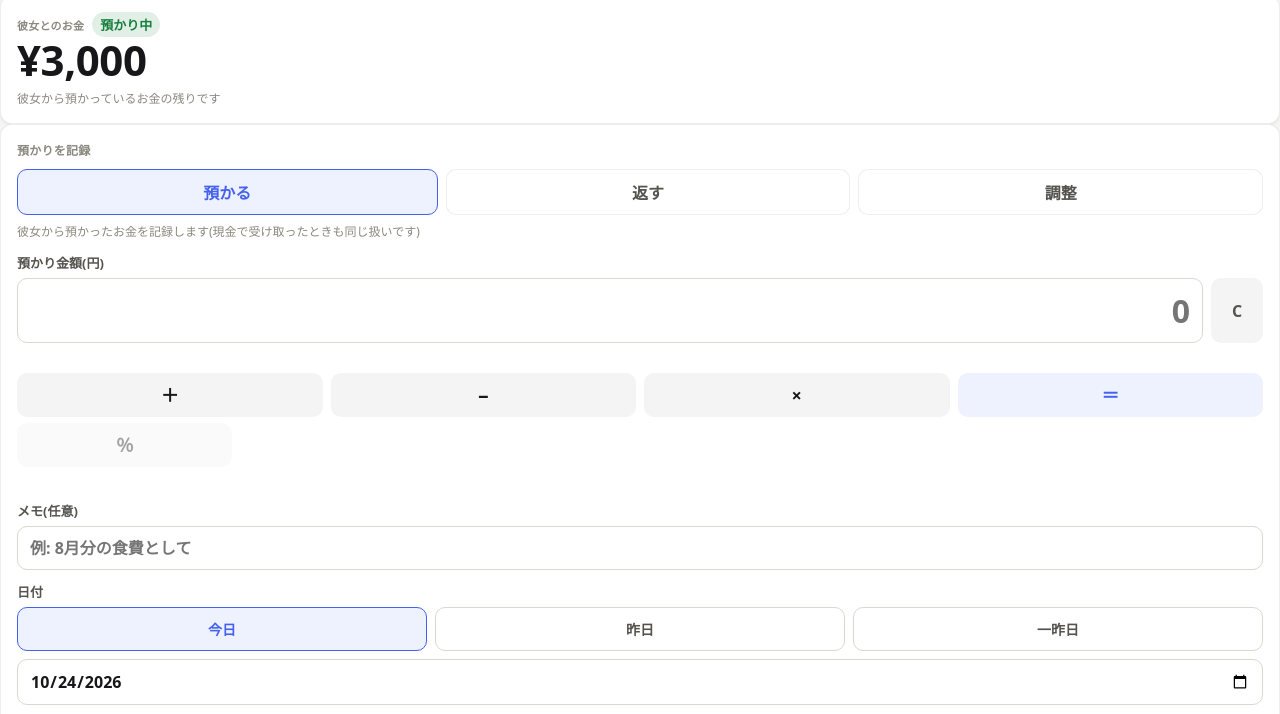
Scenario: 記録カードの「この記録のあと」 › 預かりを超えて返すと「立て替え中」に変わることが分かる
Click the button "返す" at (648,192), box x1=446 y1=169 x2=850 y2=215
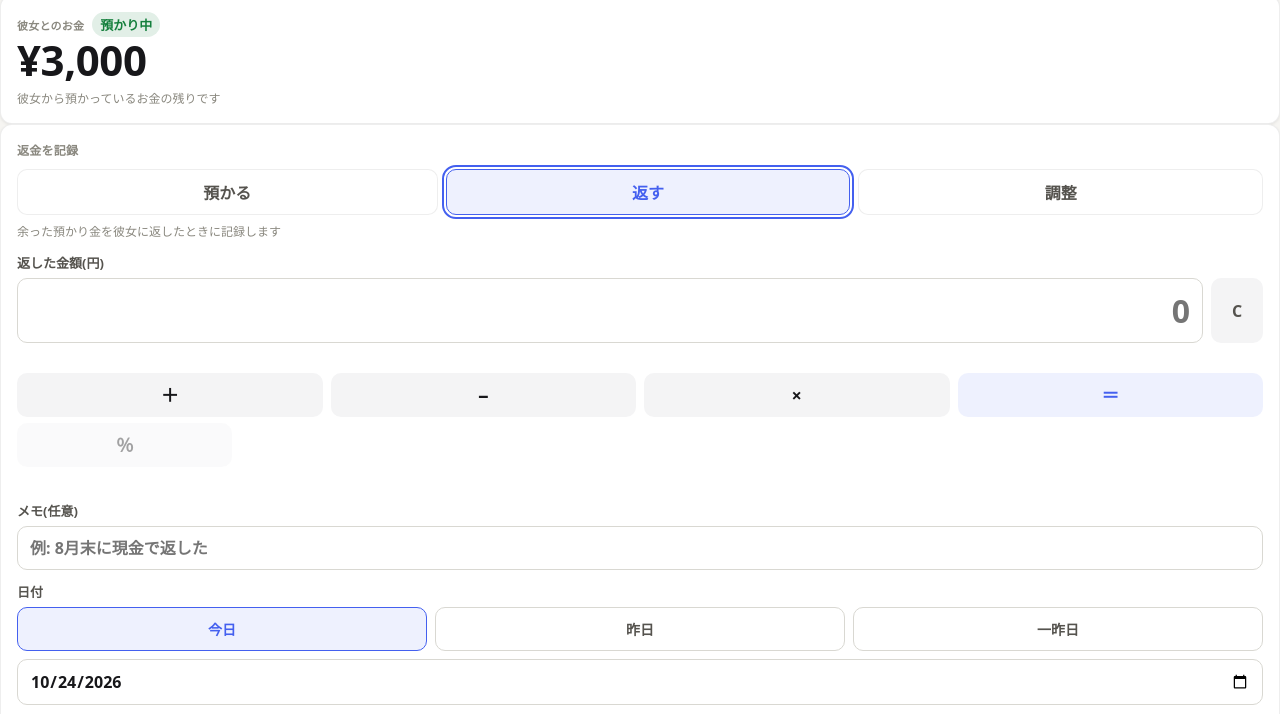
Type "5000" into the field named "返した金額(円)" at (610,311), box x1=17 y1=278 x2=1203 y2=343
(page scrolled)
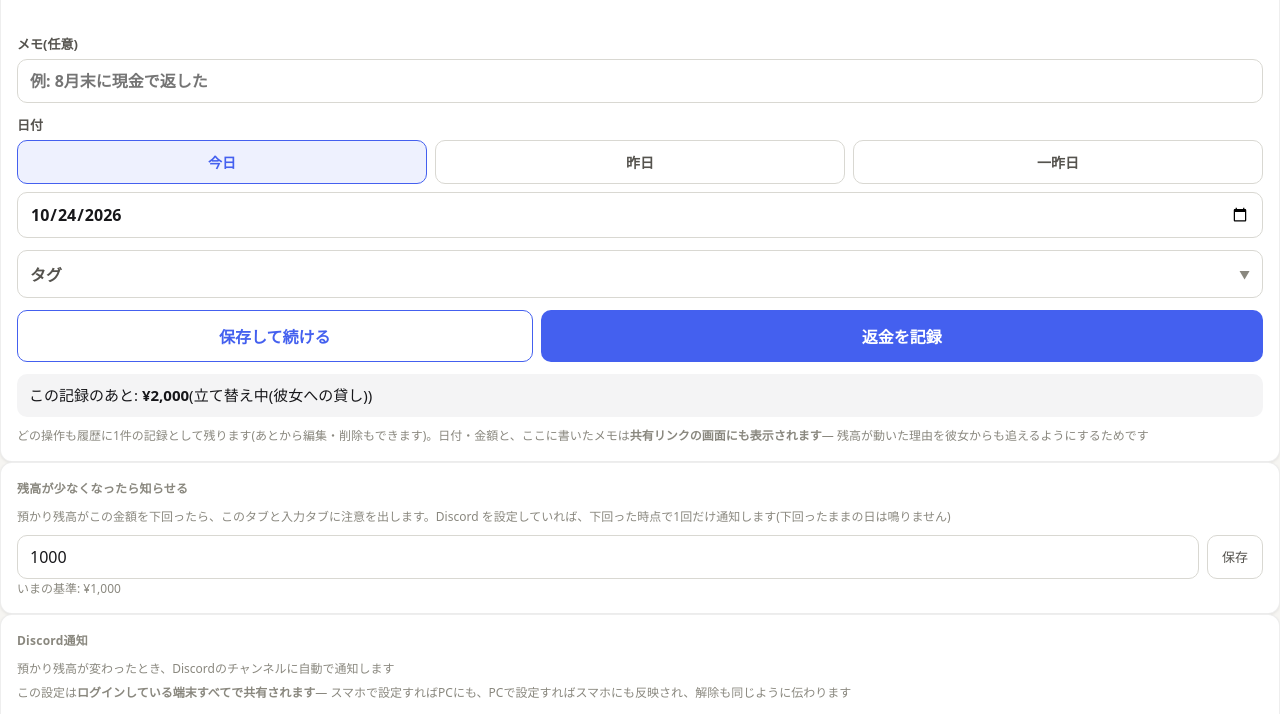
Result: the text "この記録のあと: ¥2,000(立て替え中(彼女への貸し))" is shown at x1=17 y1=374 x2=1263 y2=417
